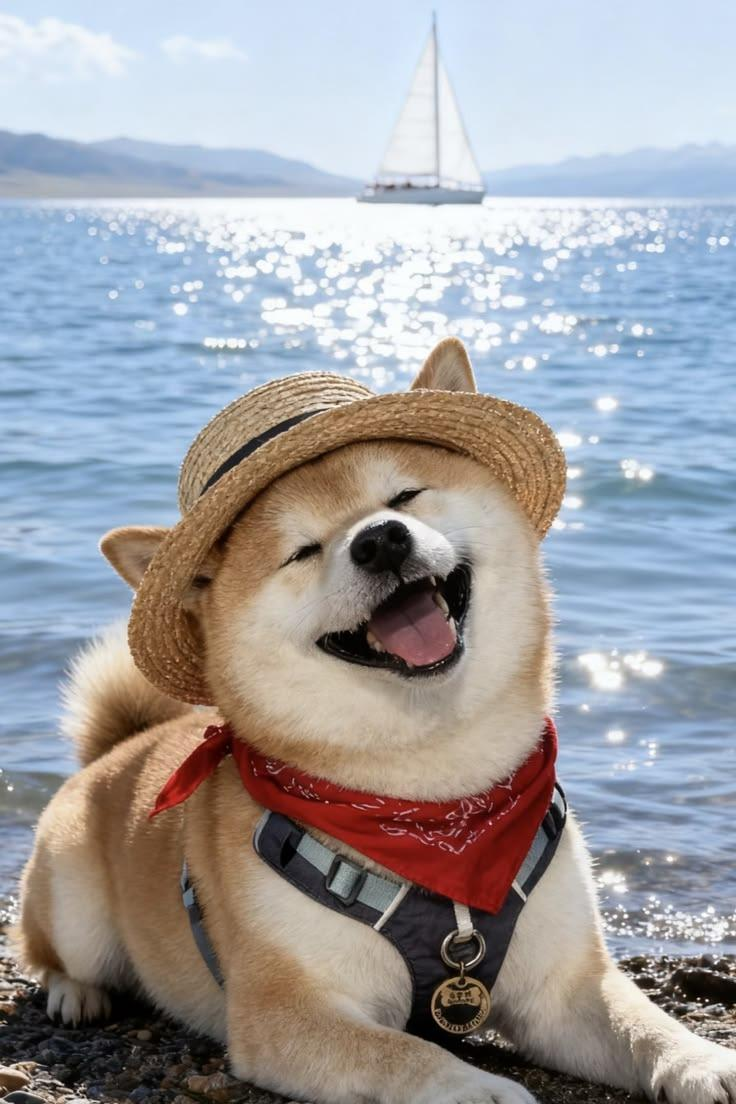dog: (17, 340, 735, 1103)
